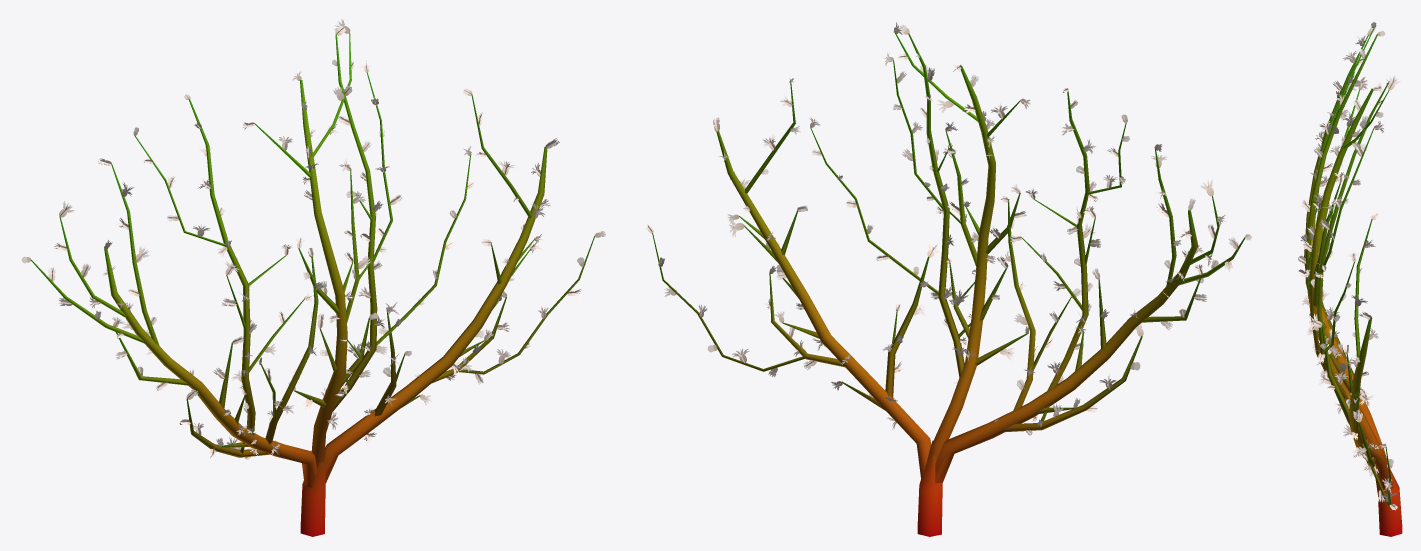
The model's file is SM_BambooFan_B.fbx.
3 renders of one model, left to right at view 1: azimuth 30°, elevation 25°; view 2: azimuth 150°, elevation 25°; view 3: azimuth 270°, elevation 25°, orthographic. The views are drawn at different scales.
Visible parts, largest first — view 1: MSH_BambooFan_B_LOD0; view 2: MSH_BambooFan_B_LOD0; view 3: MSH_BambooFan_B_LOD0.
Boxes of the visible parts, <box> form: MSH_BambooFan_B_LOD0: <box>21,19,605,536</box>; MSH_BambooFan_B_LOD0: <box>645,22,1251,536</box>; MSH_BambooFan_B_LOD0: <box>1298,22,1402,536</box>.
Size of what is drawn, in the model's own units: 0.6999 by 0.5593 by 0.127.
